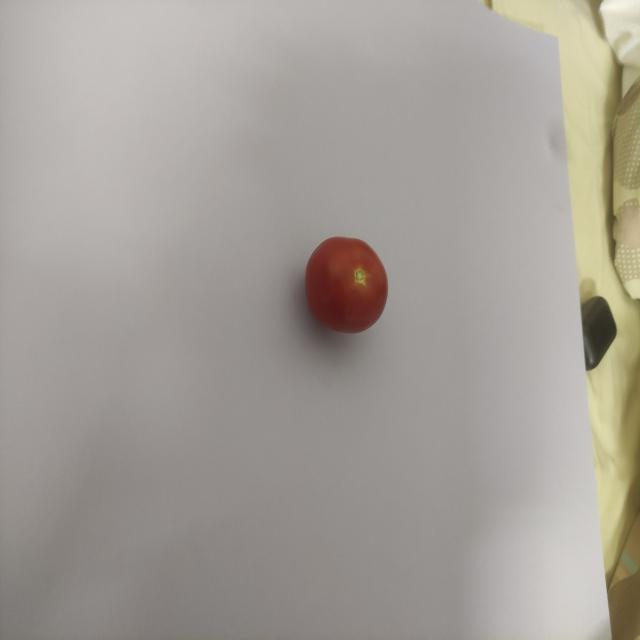kirmizi: (295, 214, 405, 337)
